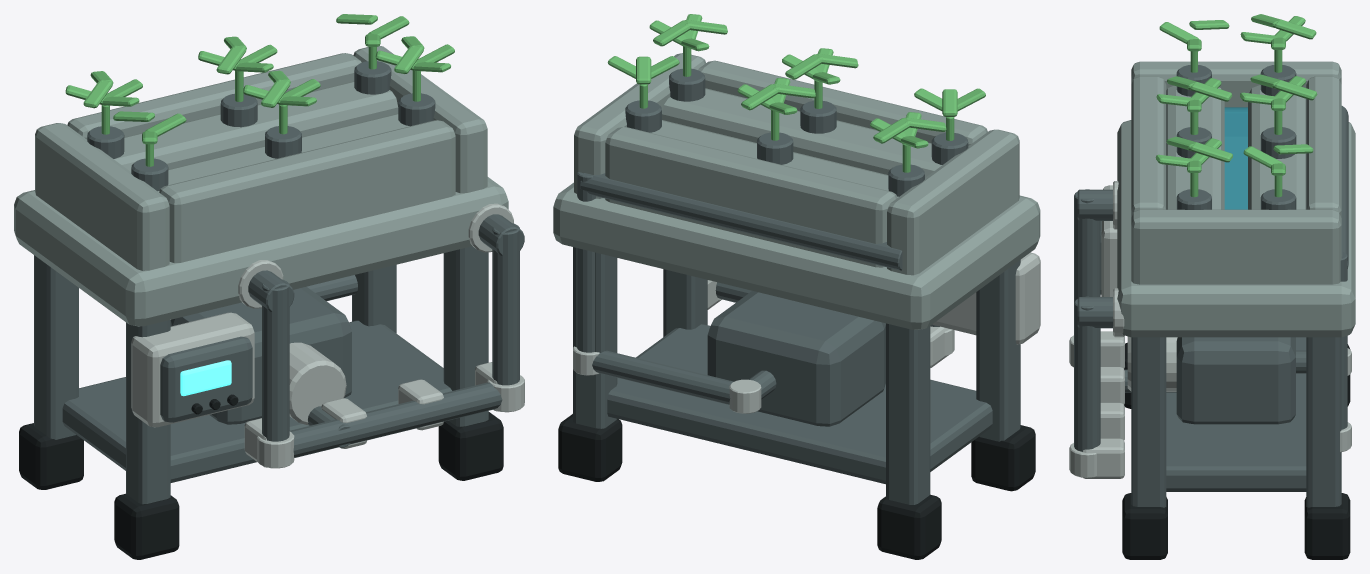
The model's file is 04_small_culture_table.glb.
The picture shows the model from 3 angles, left to right: view 1: azimuth 30°, elevation 25°; view 2: azimuth 150°, elevation 25°; view 3: azimuth 270°, elevation 25°; orthographic projection. The views are drawn at different scales.
Parts seen in each view (by area): view 1: 04_small_culture_table_Top_Frame, 04_small_culture_table_Basin_Wall_Front, 04_small_culture_table_Lower_Frame, 04_small_culture_table_Basin_Wall_Left, 04_small_culture_table_NFT_Channel_2, 04_small_culture_table_Leg_-1_1, 04_small_culture_table_Leg_1_-1, 04_small_culture_table_Central_Motor_Housing, 04_small_culture_table_Basin_Wall_Rear, 04_small_culture_table_Front_Circulation_Loop_Segment_2, 04_small_culture_table_Control_Mounting_Plate, 04_small_culture_table_Control_Housing (+26 smaller); view 2: 04_small_culture_table_Top_Frame, 04_small_culture_table_Lower_Frame, 04_small_culture_table_Central_Motor_Housing, 04_small_culture_table_Basin_Wall_Rear, 04_small_culture_table_Basin_Wall_Left, 04_small_culture_table_NFT_Channel_1, 04_small_culture_table_Leg_-1_1, 04_small_culture_table_Rear_Manifold, 04_small_culture_table_Leg_-1_-1, 04_small_culture_table_Basin_Wall_Front, 04_small_culture_table_Leg_1_1, 04_small_culture_table_Basin_Wall_Right (+15 smaller); view 3: 04_small_culture_table_Top_Frame, 04_small_culture_table_Basin_Wall_Right, 04_small_culture_table_Lower_Frame, 04_small_culture_table_Central_Motor_Housing, 04_small_culture_table_Leg_1_-1, 04_small_culture_table_Leg_1_1, 04_small_culture_table_Basin_Wall_Rear, 04_small_culture_table_Basin_Wall_Front, 04_small_culture_table_NFT_Channel_2, 04_small_culture_table_NFT_Channel_1, 04_small_culture_table_Basin_Wall_Left, 04_small_culture_table_Front_Circulation_Loop_Segment_3 (+29 smaller).
Part boxes in pixels (x1,y1,x2,y2): 04_small_culture_table_Top_Frame: [14, 177, 508, 326]; 04_small_culture_table_Basin_Wall_Front: [159, 120, 455, 263]; 04_small_culture_table_Lower_Frame: [62, 320, 451, 482]; 04_small_culture_table_Basin_Wall_Left: [35, 123, 169, 270]; 04_small_culture_table_NFT_Channel_2: [114, 81, 398, 171]; 04_small_culture_table_Leg_-1_1: [34, 255, 78, 439]; 04_small_culture_table_Leg_1_-1: [443, 246, 488, 426]; 04_small_culture_table_Central_Motor_Housing: [170, 286, 351, 424]; 04_small_culture_table_Basin_Wall_Rear: [67, 53, 361, 139]; 04_small_culture_table_Front_Circulation_Loop_Segment_2: [290, 382, 502, 457]; 04_small_culture_table_Control_Mounting_Plate: [131, 312, 254, 427]; 04_small_culture_table_Control_Housing: [160, 336, 252, 422]; 04_small_culture_table_Top_Frame: [553, 182, 1040, 329]; 04_small_culture_table_Lower_Frame: [607, 324, 992, 484]; 04_small_culture_table_Central_Motor_Housing: [707, 291, 885, 426]; 04_small_culture_table_Basin_Wall_Rear: [605, 127, 897, 267]; 04_small_culture_table_Basin_Wall_Left: [887, 129, 1019, 275]; 04_small_culture_table_NFT_Channel_1: [662, 88, 941, 177]; 04_small_culture_table_Leg_-1_1: [886, 323, 930, 504]; 04_small_culture_table_Rear_Manifold: [580, 173, 902, 270]; 04_small_culture_table_Leg_-1_-1: [976, 260, 1020, 441]; 04_small_culture_table_Basin_Wall_Front: [698, 60, 987, 145]; 04_small_culture_table_Leg_1_1: [573, 247, 617, 428]; 04_small_culture_table_Basin_Wall_Right: [574, 53, 705, 198]; 04_small_culture_table_Top_Frame: [1117, 120, 1355, 337]; 04_small_culture_table_Basin_Wall_Right: [1131, 209, 1341, 284]; 04_small_culture_table_Lower_Frame: [1166, 337, 1306, 491]; 04_small_culture_table_Central_Motor_Housing: [1176, 337, 1295, 424]; 04_small_culture_table_Leg_1_-1: [1131, 337, 1166, 507]; 04_small_culture_table_Leg_1_1: [1306, 337, 1341, 507]; 04_small_culture_table_Basin_Wall_Rear: [1306, 76, 1341, 217]; 04_small_culture_table_Basin_Wall_Front: [1131, 76, 1166, 216]; 04_small_culture_table_NFT_Channel_2: [1248, 85, 1306, 209]; 04_small_culture_table_NFT_Channel_1: [1166, 85, 1224, 209]; 04_small_culture_table_Basin_Wall_Left: [1131, 61, 1341, 107]; 04_small_culture_table_Front_Circulation_Loop_Segment_3: [1074, 296, 1100, 451].
Bounding box in the file's own units: 1.2 × 1.24 × 0.8163.
